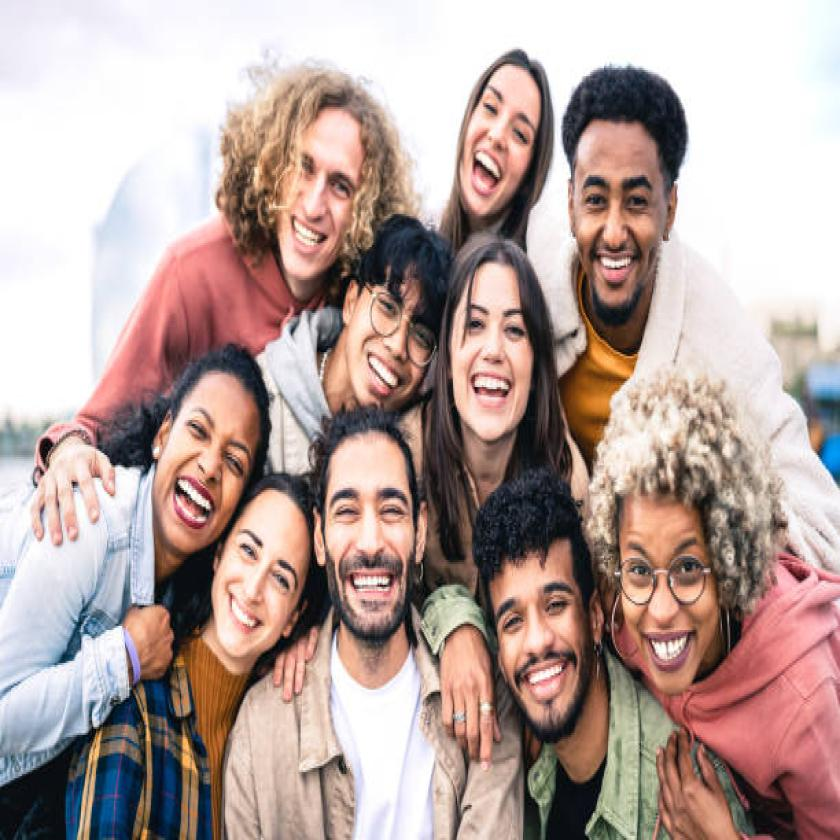Sin_casco: (597, 362, 783, 729), (234, 26, 390, 296), (460, 464, 606, 746), (567, 47, 702, 331), (437, 232, 560, 464), (136, 335, 266, 553), (311, 418, 426, 663), (319, 220, 458, 408), (204, 470, 308, 673), (454, 31, 553, 230)
